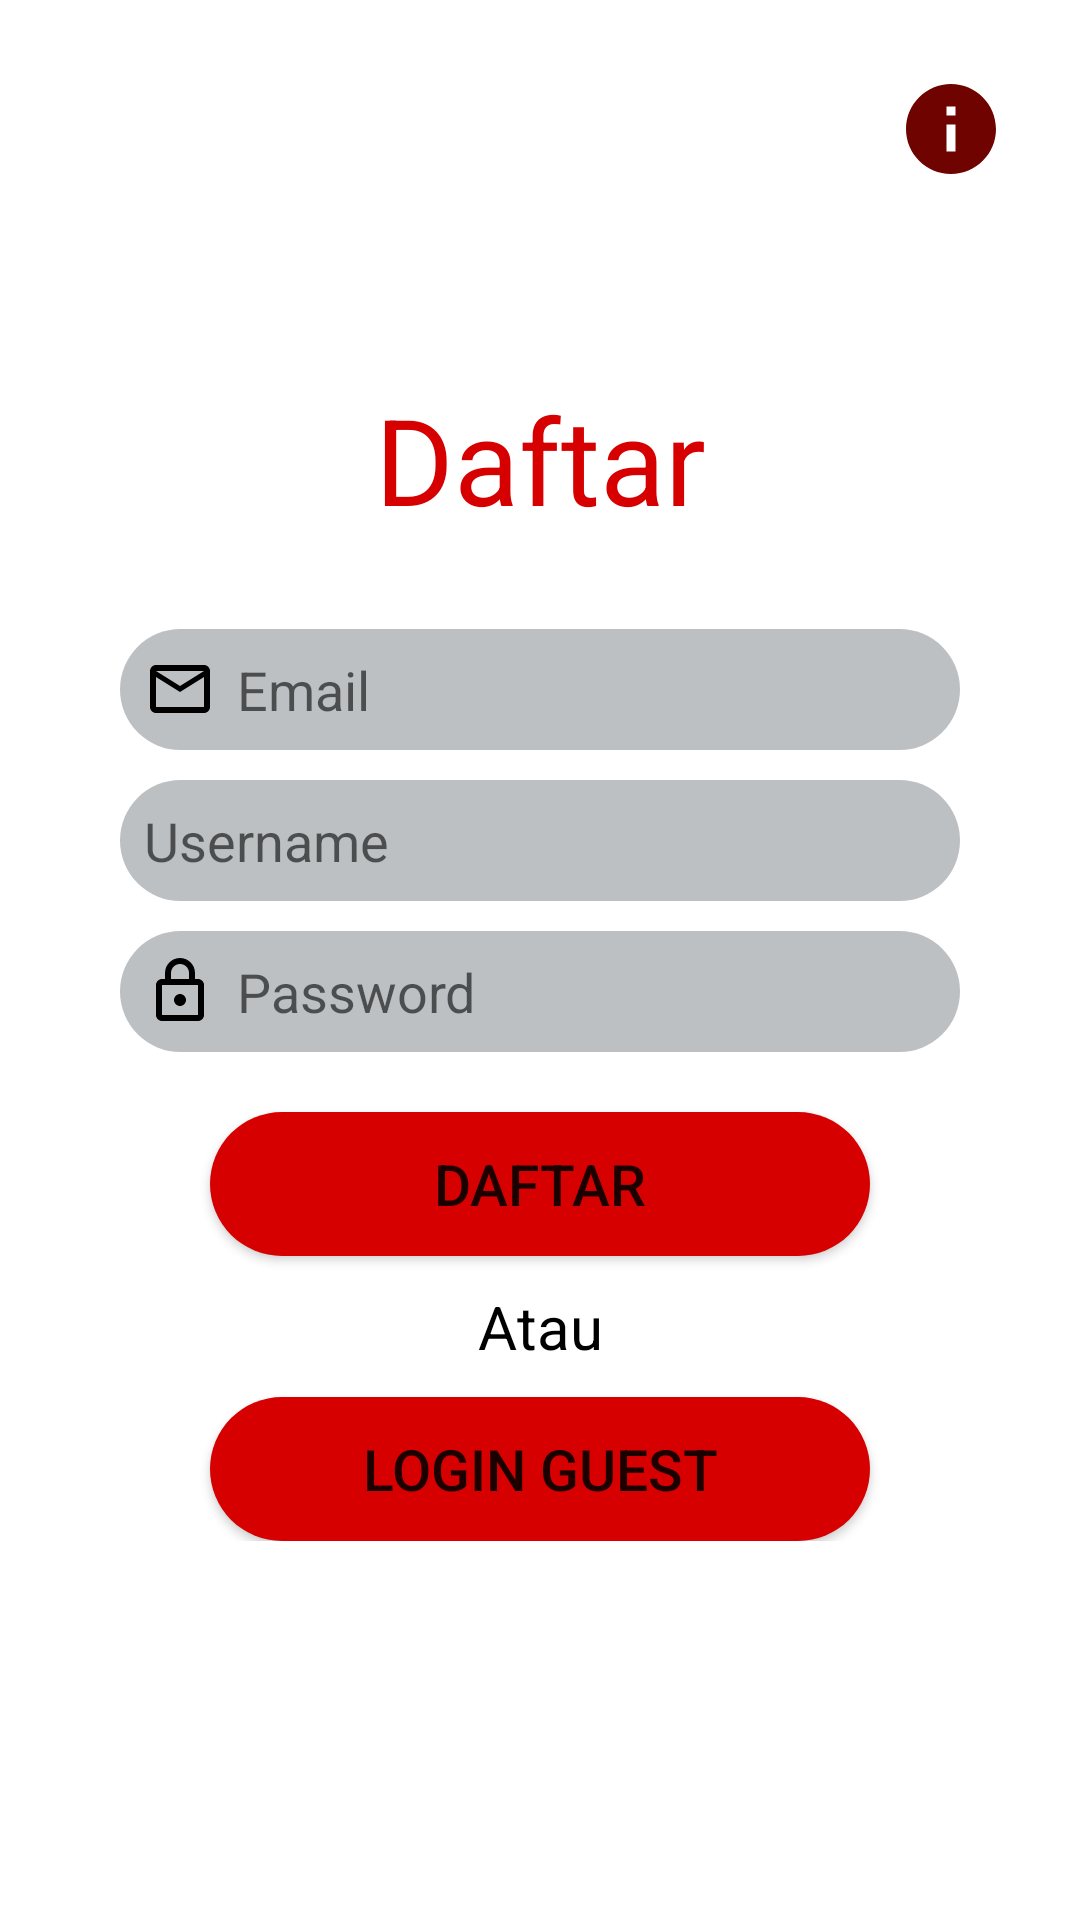

Screen size 1080px×1920px. Icon name, then its center in pixels as point (x, y):
info: point (951, 129)
